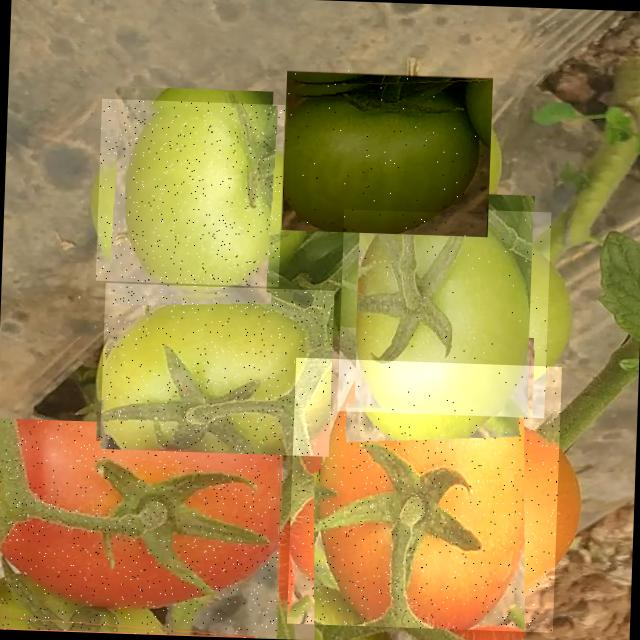Ripe Tomato: (286, 357, 562, 632), (0, 417, 284, 638)
Unripe Tomato: (337, 205, 551, 418), (99, 283, 334, 457), (281, 67, 493, 236), (96, 98, 284, 286)
